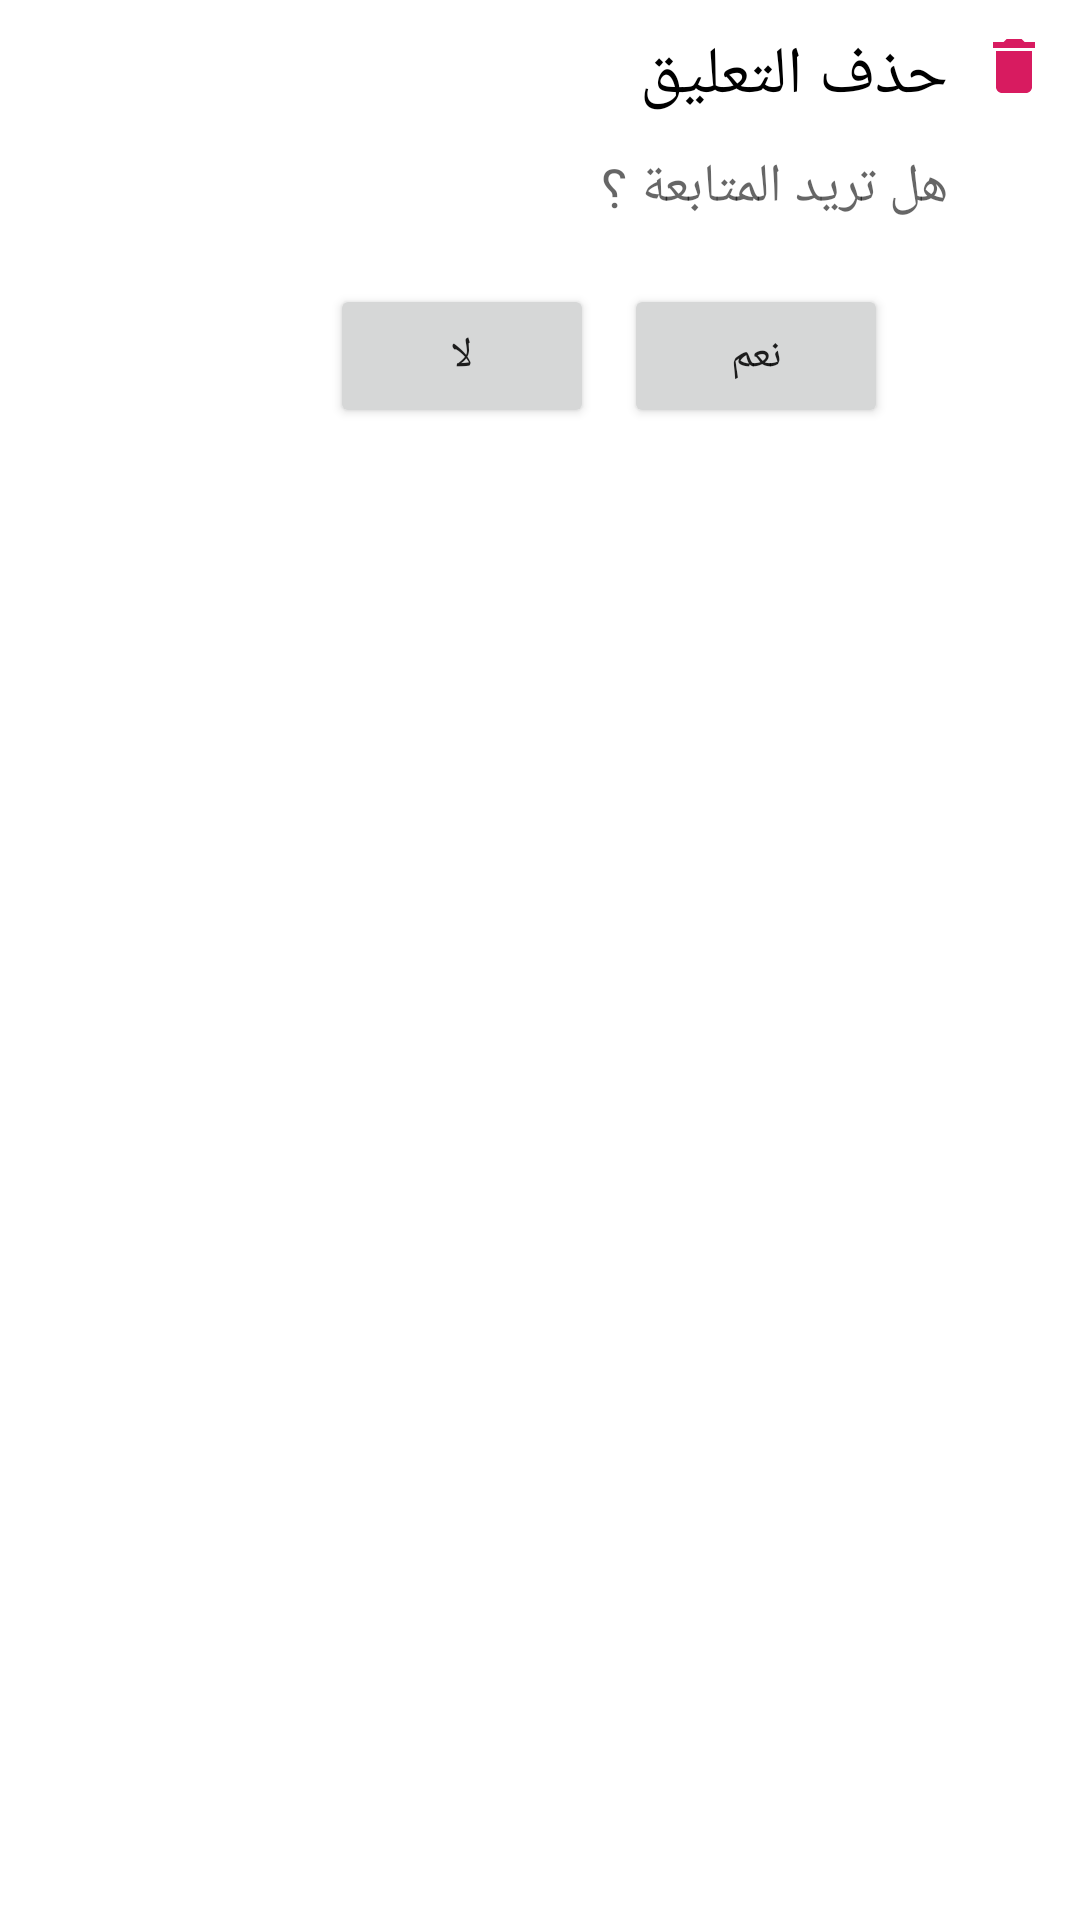

Icons on this 1080w x 1920h Android screen, each with the point to tap as point (x, y):
delete: point (1014, 66)
